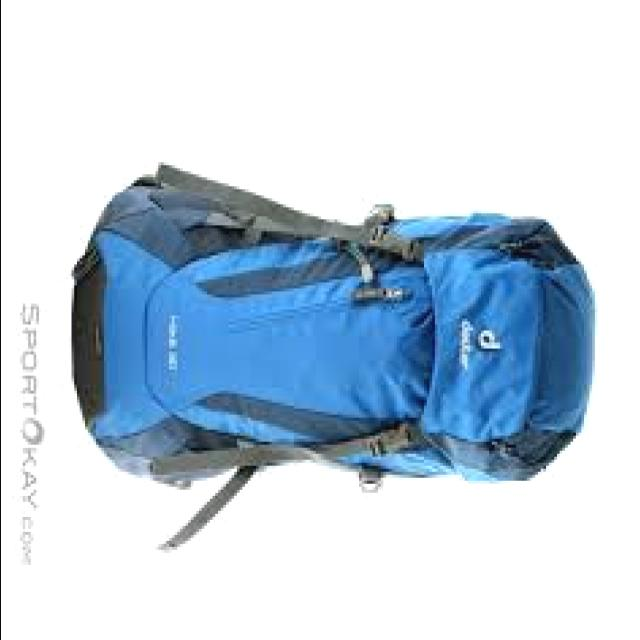backpack: (72, 163, 598, 551)
